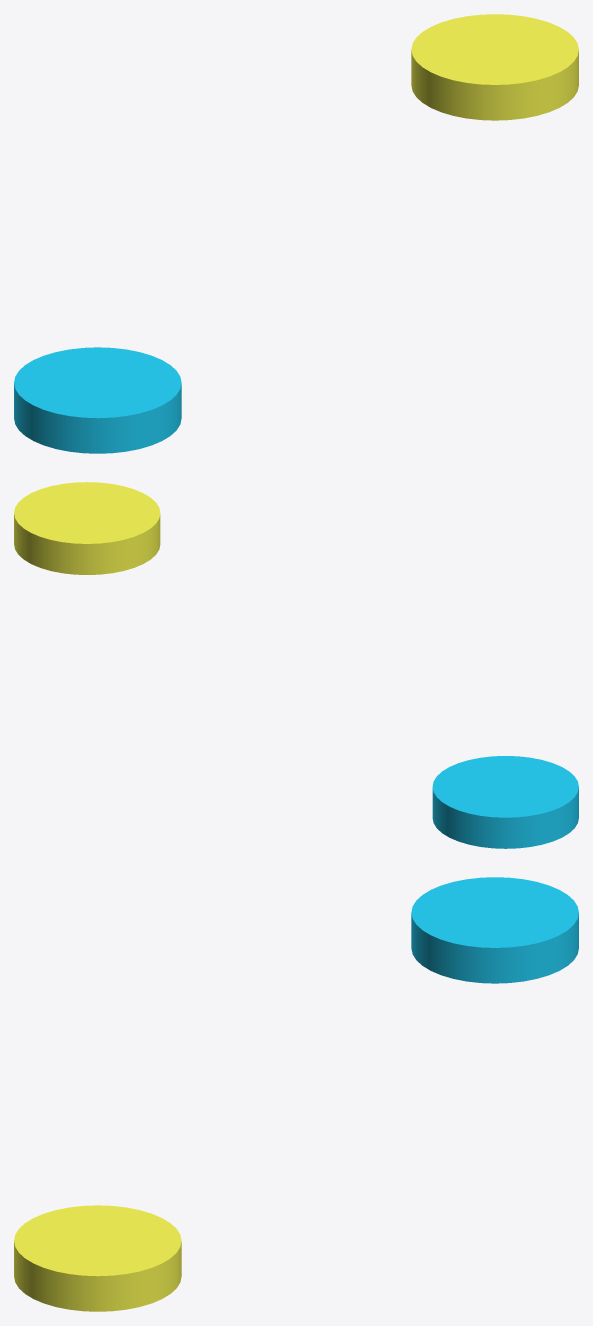
File: lv1Block1.fbx
3 renders of one model, top to bottom at view 1: azimuth 90°, elevation 25°; view 2: azimuth 150°, elevation 25°; view 3: azimuth 270°, elevation 25°, orthographic. The views are drawn at different scales.
Visible parts, largest first — view 1: Cylinder, Cylinder_1; view 2: Cylinder, Cylinder_1; view 3: Cylinder, Cylinder_1.
Part boxes in pixels (bbox=[...]): Cylinder: bbox=[411, 14, 578, 120]; Cylinder_1: bbox=[14, 347, 181, 453]; Cylinder: bbox=[14, 482, 160, 574]; Cylinder_1: bbox=[432, 756, 578, 848]; Cylinder: bbox=[14, 1205, 181, 1311]; Cylinder_1: bbox=[411, 877, 578, 983].
Bounding box in the file's own units: 242 × 10.7 × 144.
